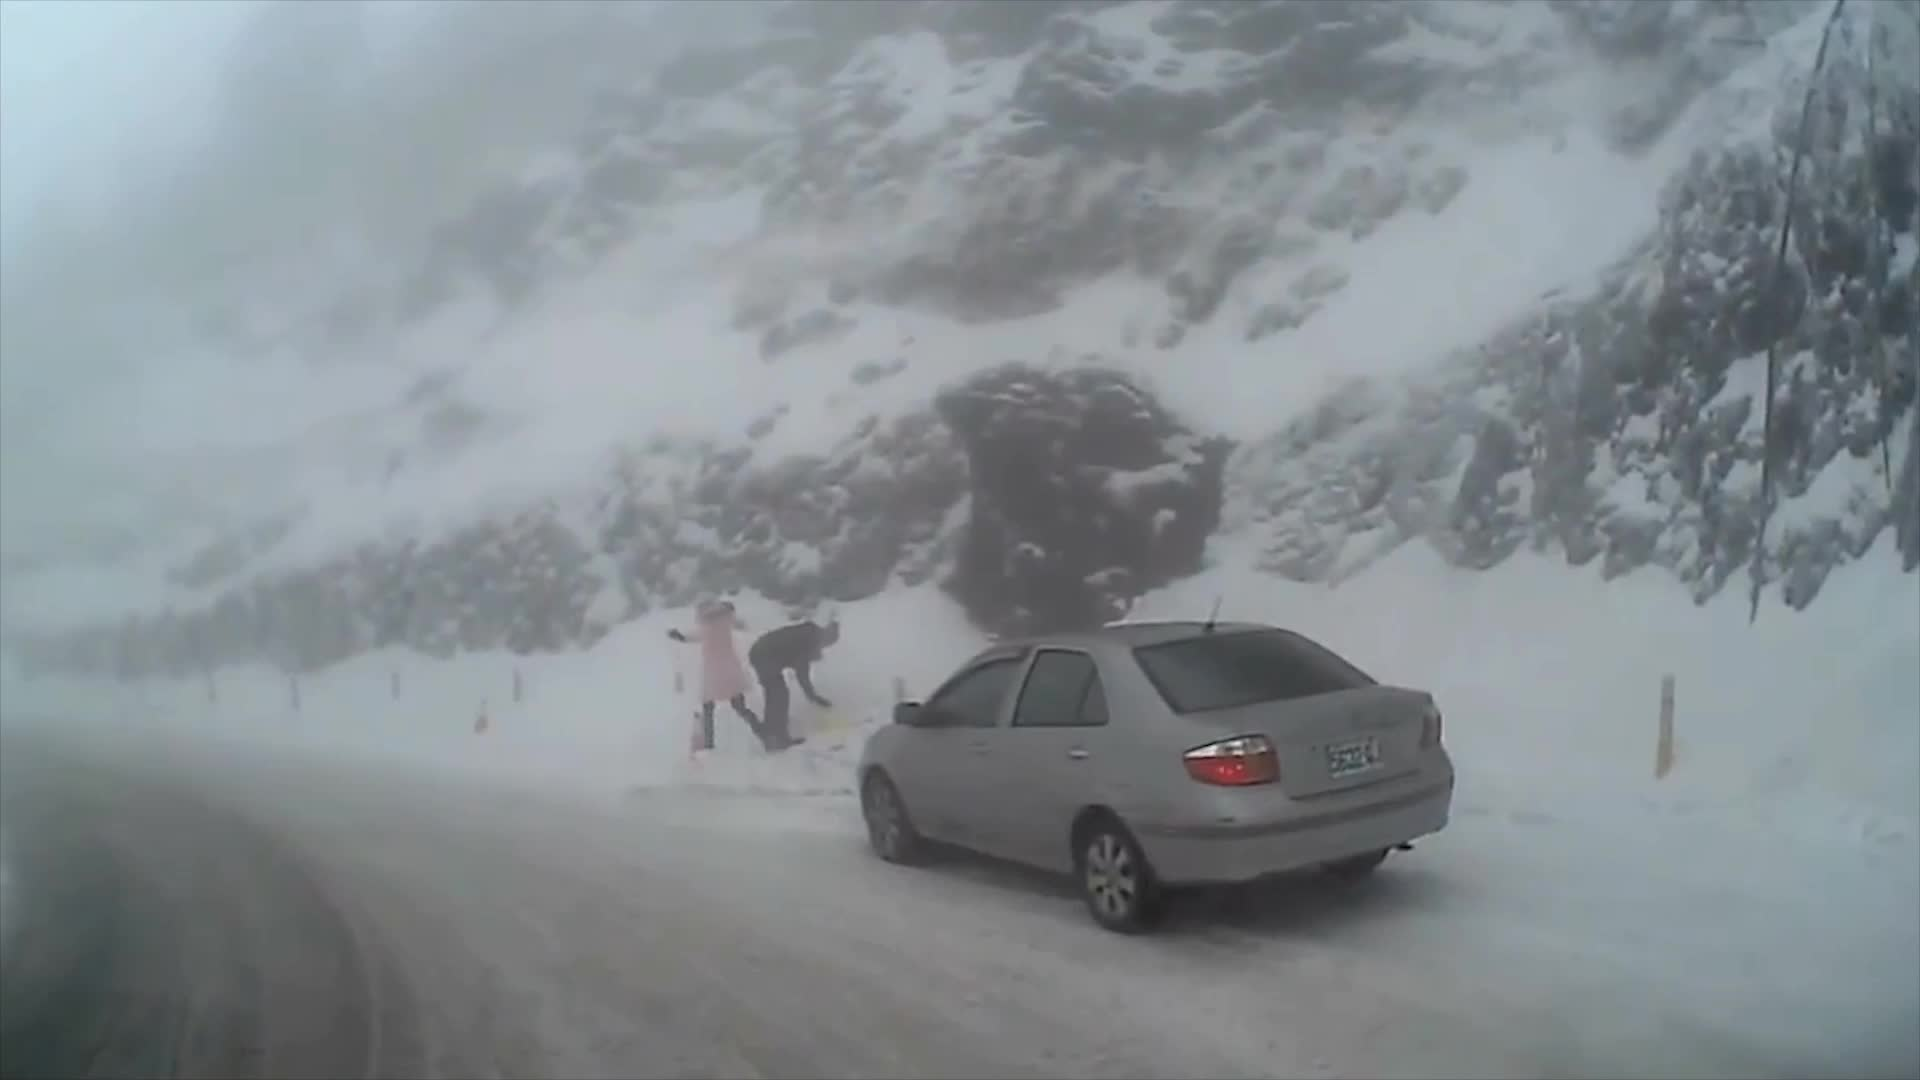pedestrian: (668, 590, 757, 754), (752, 623, 841, 752)
vehicle: (854, 616, 1453, 931)
